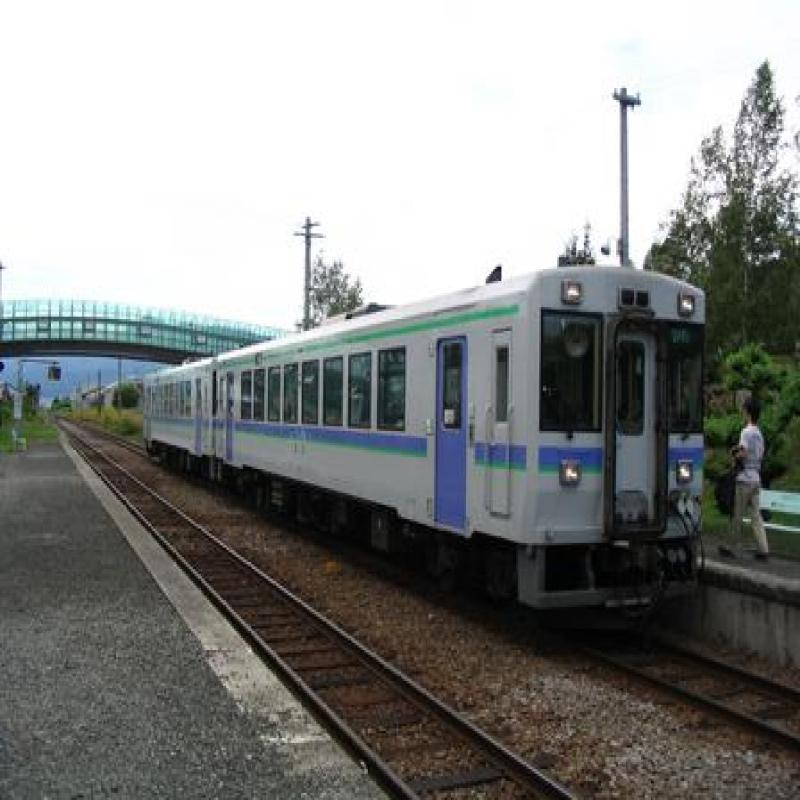train: (142, 263, 708, 613)
